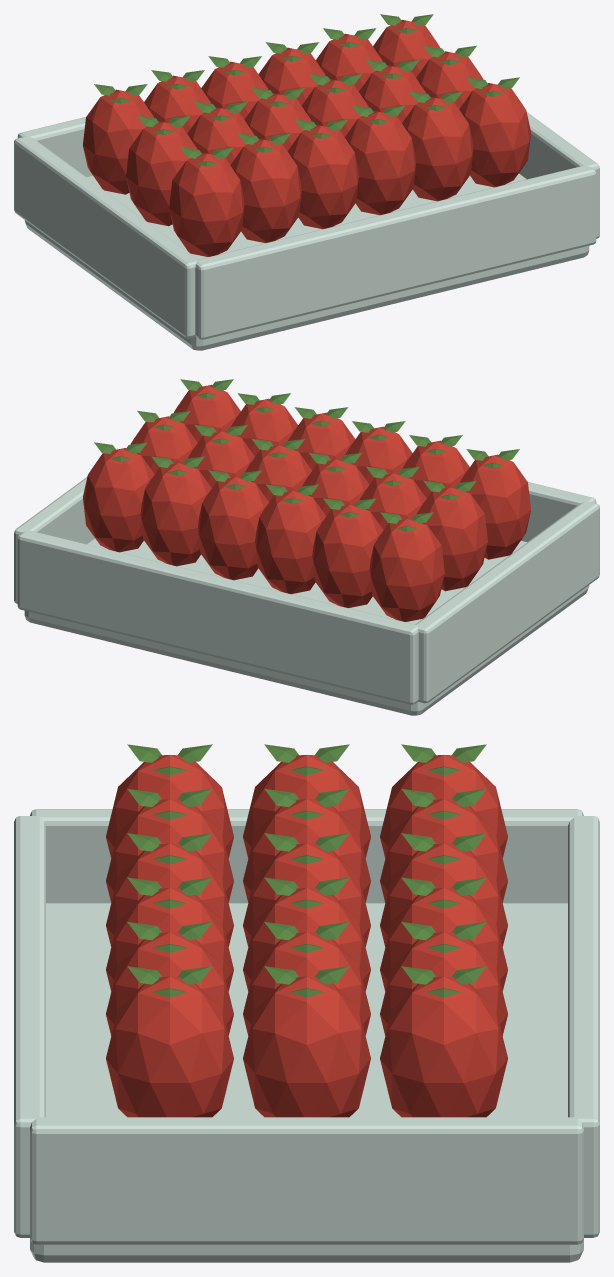
File: strawberries.fbx
3 views of the same model, one above another, from view 1: azimuth 30°, elevation 25°; view 2: azimuth 150°, elevation 25°; view 3: azimuth 270°, elevation 25° (orthographic). The views are drawn at different scales.
Visible parts, largest first — view 1: strawberries; view 2: strawberries; view 3: strawberries.
Part boxes in pixels (left/top/right/bottom): strawberries: left=14, top=14, right=599, bottom=350; strawberries: left=14, top=379, right=599, bottom=715; strawberries: left=14, top=744, right=599, bottom=1262.
Size of the model in its own units: 26.1 by 9.4 by 20.1.
